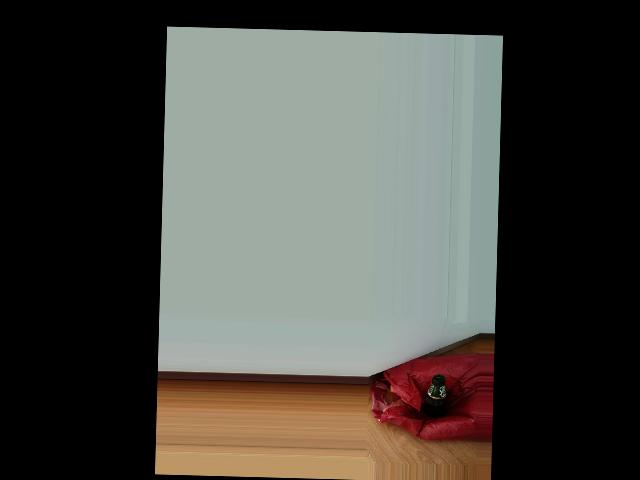beer: (423, 374, 449, 418)
